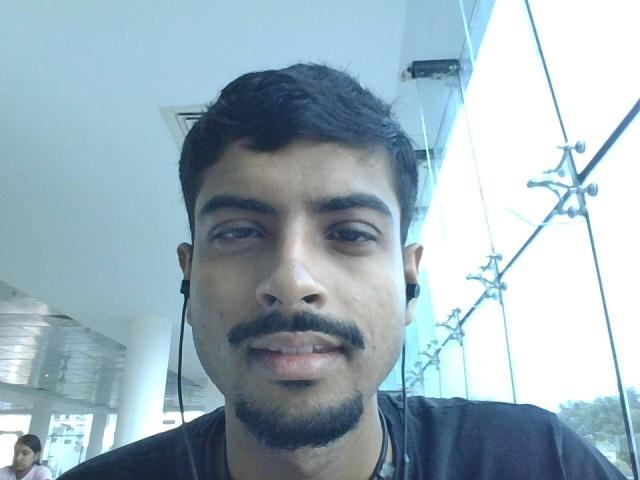confident: (140, 70, 474, 451)
